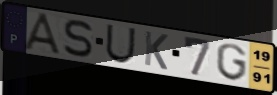7: (182, 34, 212, 78)
A: (21, 12, 65, 58)
G: (215, 42, 249, 83)
K: (143, 29, 170, 72)
S: (63, 19, 95, 59)
U: (104, 23, 138, 65)
